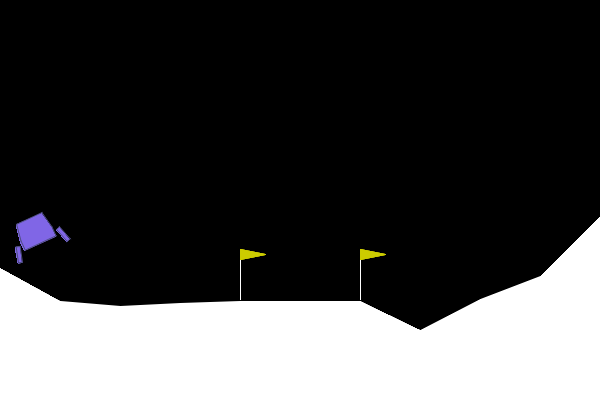lander: (1, 204, 72, 266)
